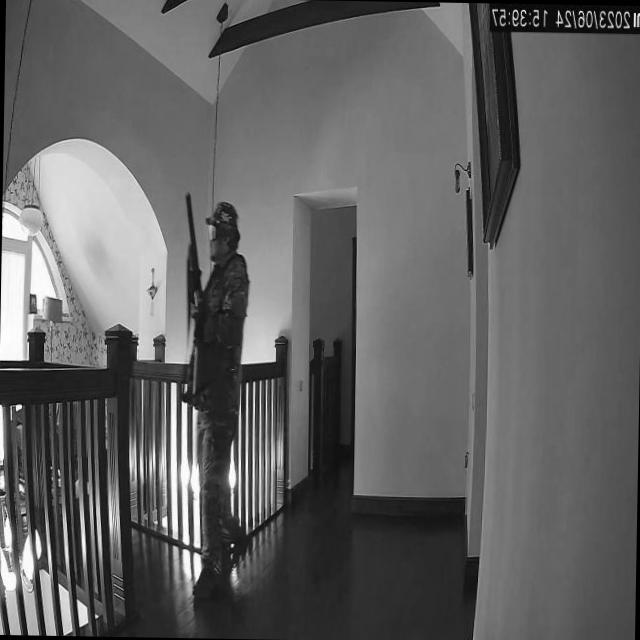gun: (182, 190, 208, 390)
person with a gun: (176, 191, 248, 608)
